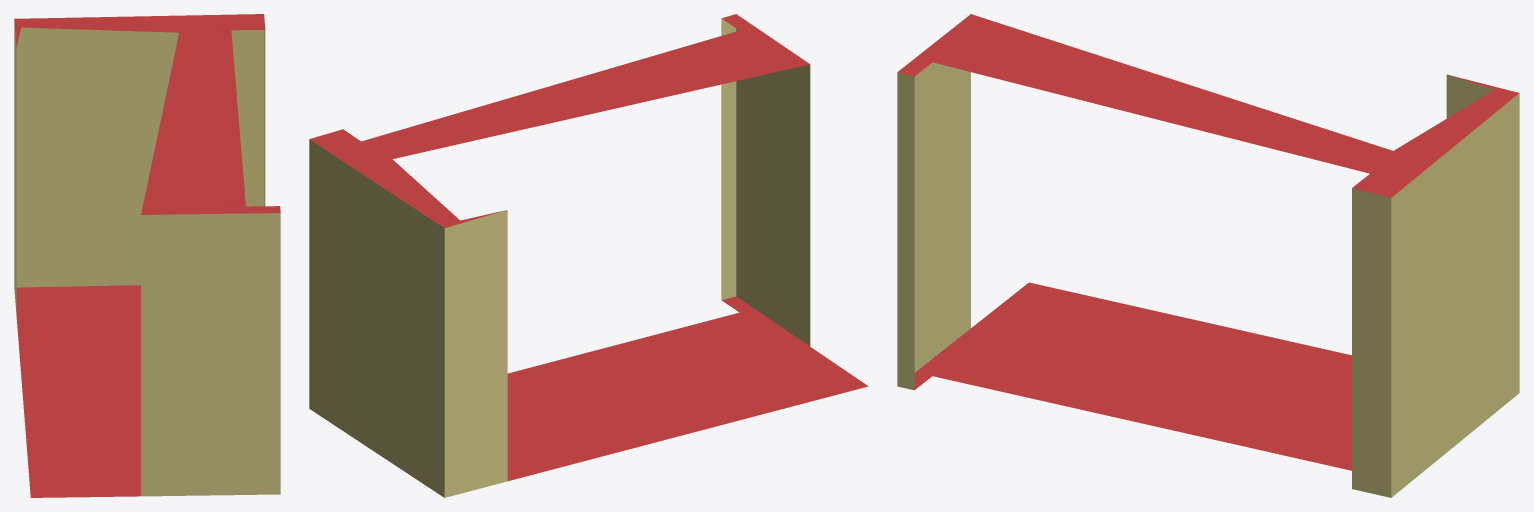
3 renders of one model, left to right at view 1: azimuth 30°, elevation 25°; view 2: azimuth 150°, elevation 25°; view 3: azimuth 270°, elevation 25°, orthographic. The views are drawn at different scales.
Parts seen in each view (by area): view 1: group_4, group_5, group_3; view 2: group_4, group_5, group_3; view 3: group_4, group_5, group_3.
Boxes of the visible parts, x1,y1,x2,y2 form: group_4: [14, 21, 280, 496]; group_5: [16, 285, 140, 497]; group_3: [14, 14, 280, 214]; group_4: [309, 18, 810, 497]; group_5: [507, 296, 868, 481]; group_3: [309, 14, 809, 228]; group_4: [897, 62, 1519, 497]; group_5: [914, 282, 1351, 470]; group_3: [897, 14, 1518, 197].
Size of the model in its own units: 11.46 by 13.98 by 7.8.
